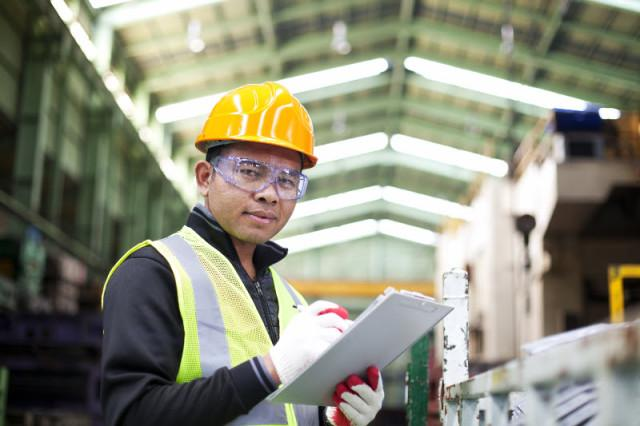helmet: (193, 83, 323, 167)
